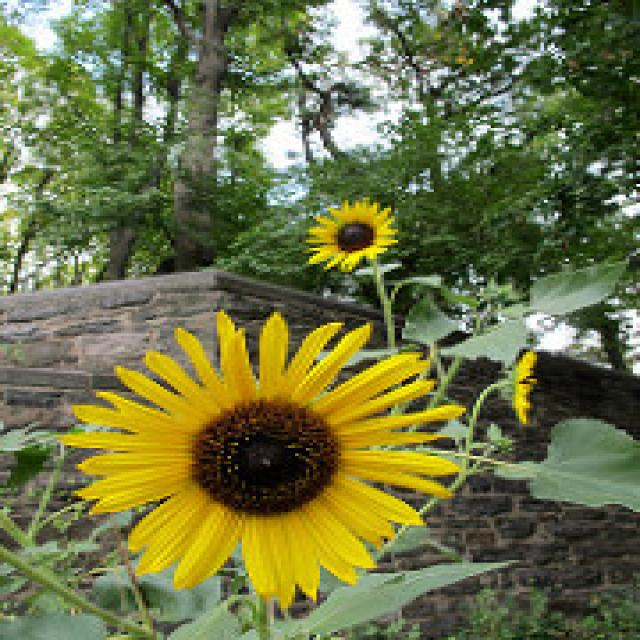sunflower: (52, 301, 474, 611), (295, 199, 409, 276), (500, 345, 542, 428)
